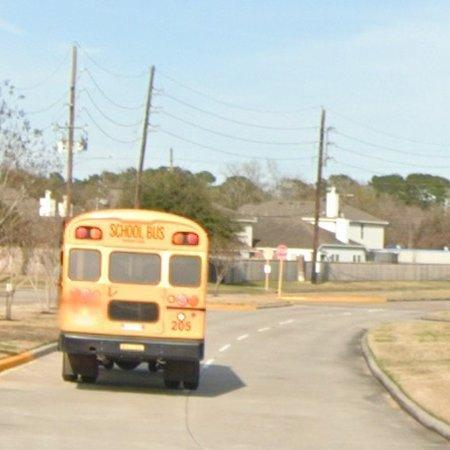buses: (59, 210, 209, 391)
